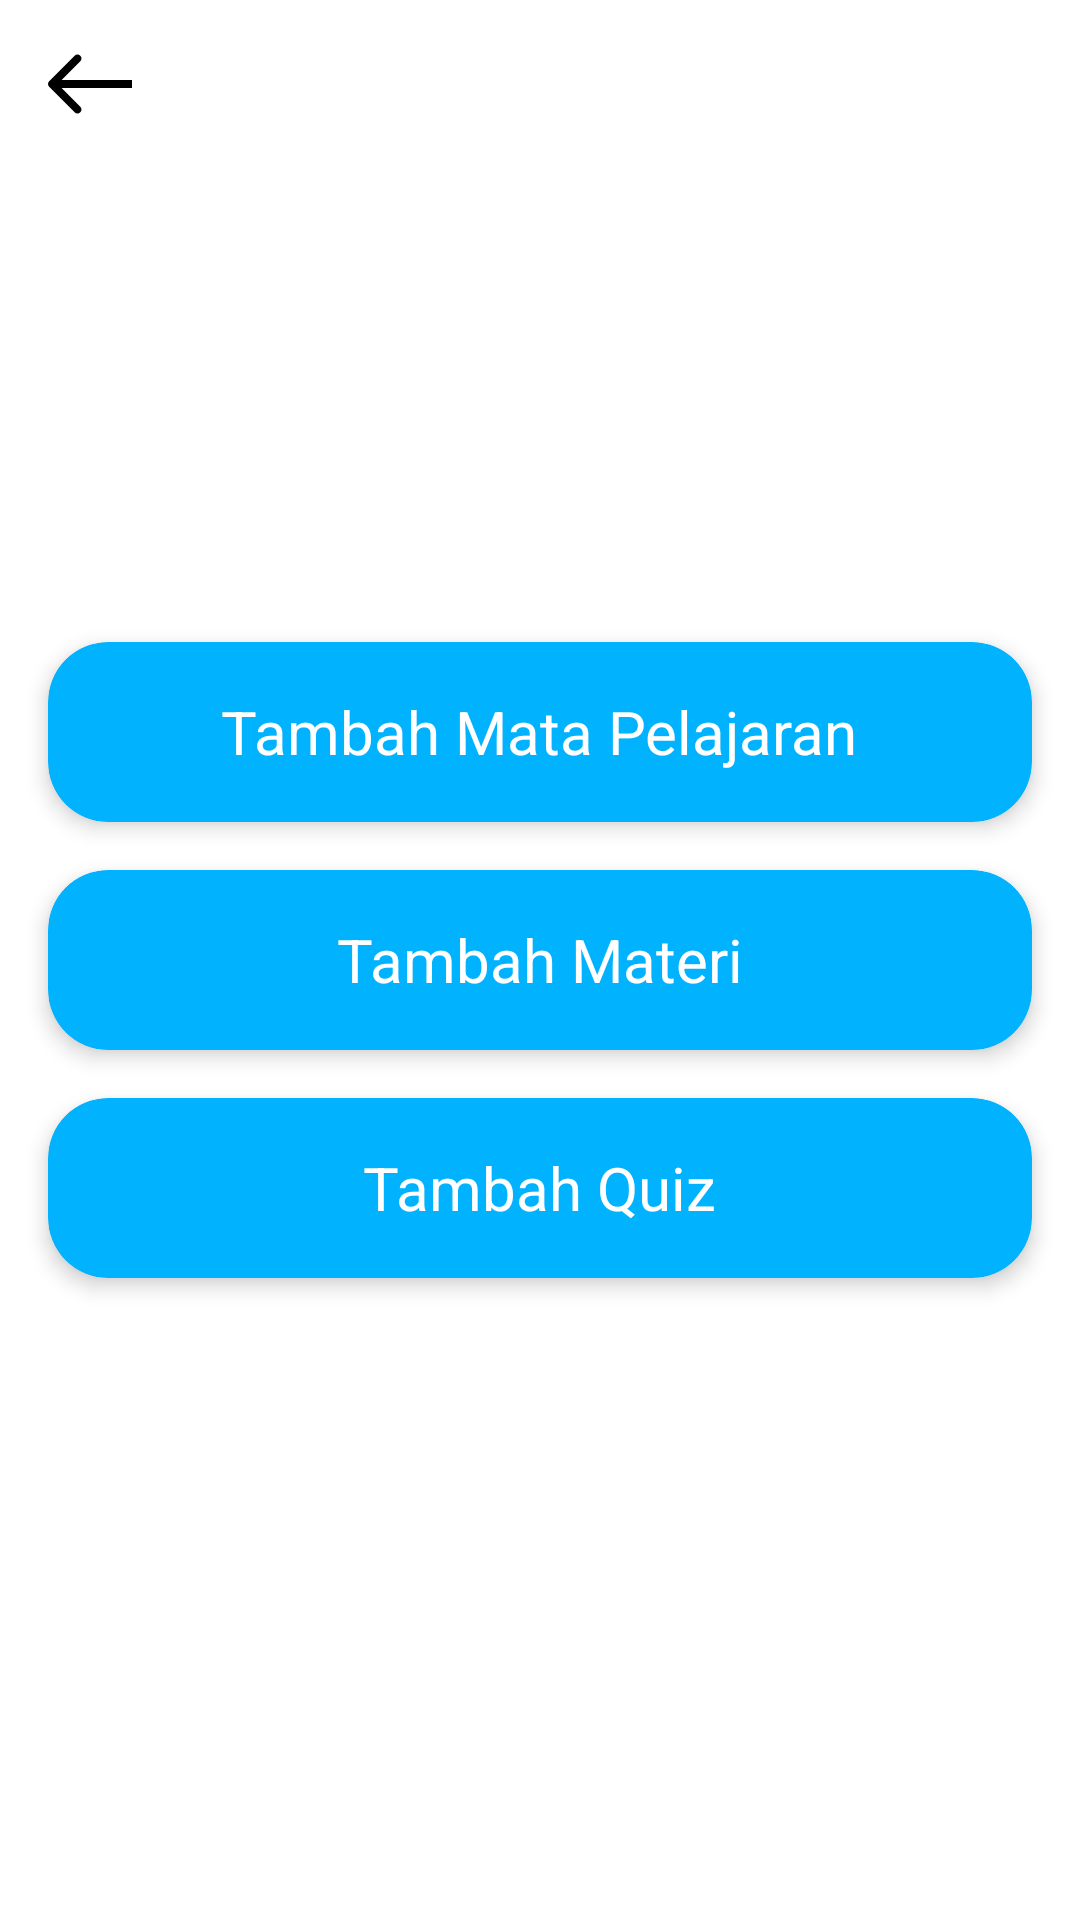

Named icons in this screenshot (1080 x 1920) and their bounding boxes, (x1, y1, x2, y2):
arrow back: (48, 54, 132, 114)
